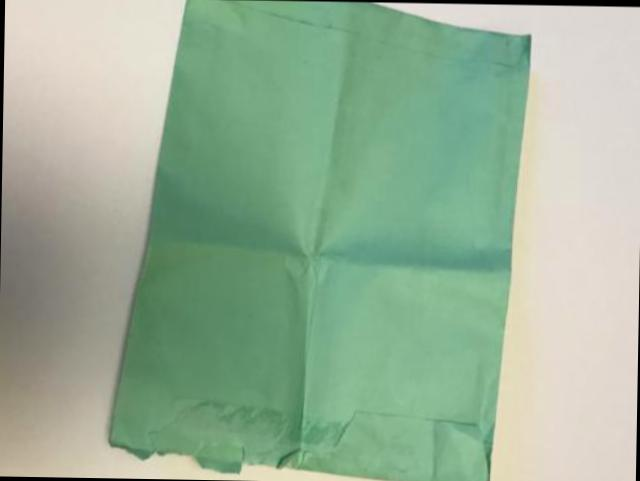cardboard paper: (111, 0, 530, 481)
